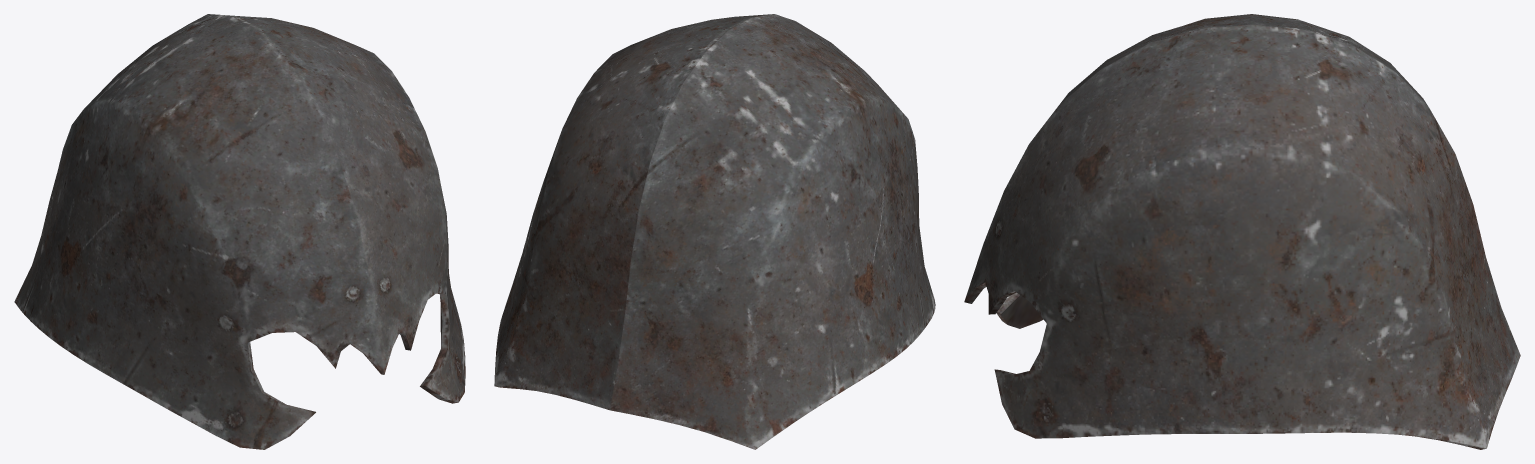
File: sk_gb_uruk_helmet_light_c.fbx
3 renders of one model, left to right at view 1: azimuth 30°, elevation 25°; view 2: azimuth 150°, elevation 25°; view 3: azimuth 270°, elevation 25°, orthographic. The views are drawn at different scales.
Visible parts, largest first — view 1: sk_gb_uruk_helmet_light_c; view 2: sk_gb_uruk_helmet_light_c; view 3: sk_gb_uruk_helmet_light_c.
Boxes of the visible parts, <box> form: sk_gb_uruk_helmet_light_c: <box>14,14,465,449</box>; sk_gb_uruk_helmet_light_c: <box>494,14,935,449</box>; sk_gb_uruk_helmet_light_c: <box>964,14,1520,449</box>.
Size of the model in its own units: 0.2467 by 0.2943 by 0.2073.
Materials: 1 (1 with a texture image).
